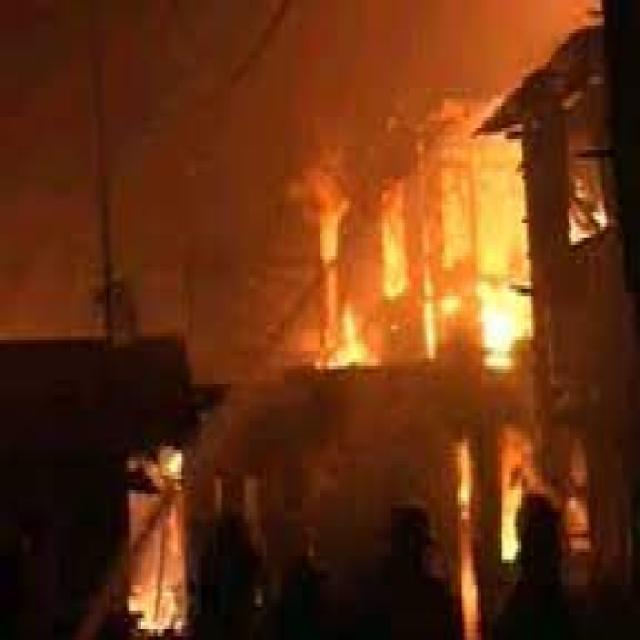Fire: (446, 139, 545, 395), (318, 190, 438, 370)
